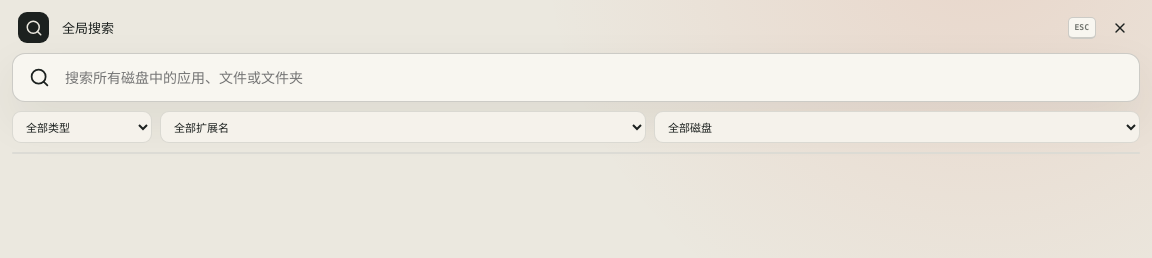
QuickOverlay › clears stale results when the native search rejects
Type "old" into the field with placeholder "搜索所有磁盘中的应用、文件或文件夹" at (593, 78), box left=63, top=67, right=1123, bottom=88
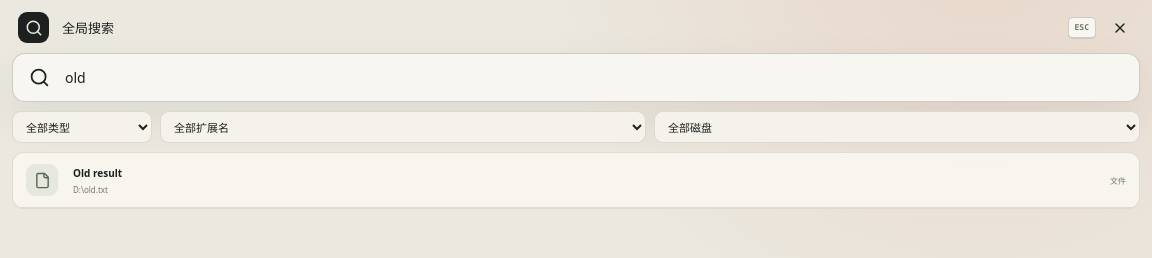
Now the text "Old result" is shown, box left=73, top=166, right=122, bottom=180
Replace the text in the field with placeholder "搜索所有磁盘中的应用、文件或文件夹" with "new" at (593, 78), box left=63, top=67, right=1123, bottom=88
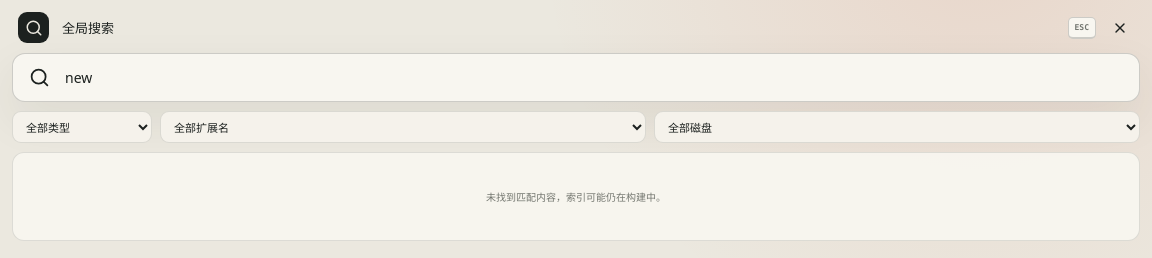
Now the button "Old result" is gone
